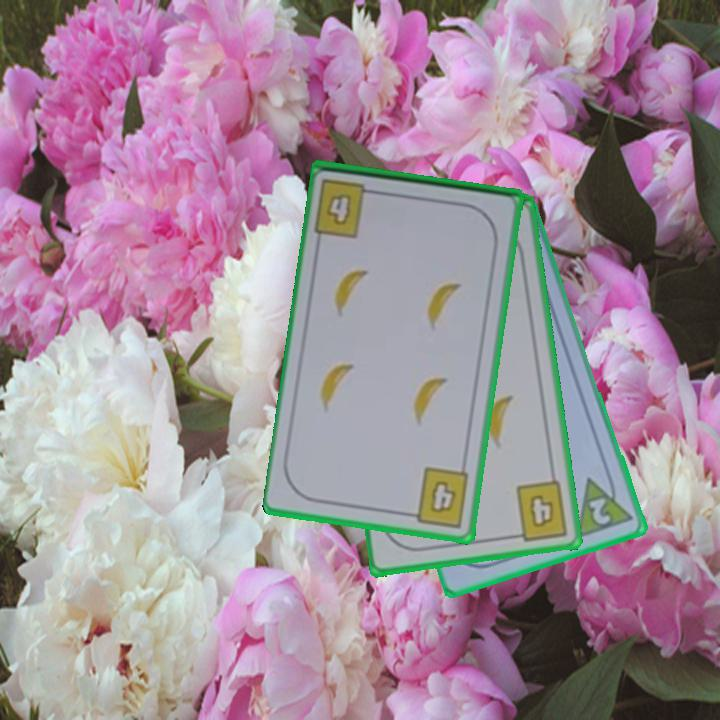2p: (573, 469, 637, 542)
4b: (311, 175, 383, 240), (403, 464, 472, 530), (507, 477, 572, 543)
